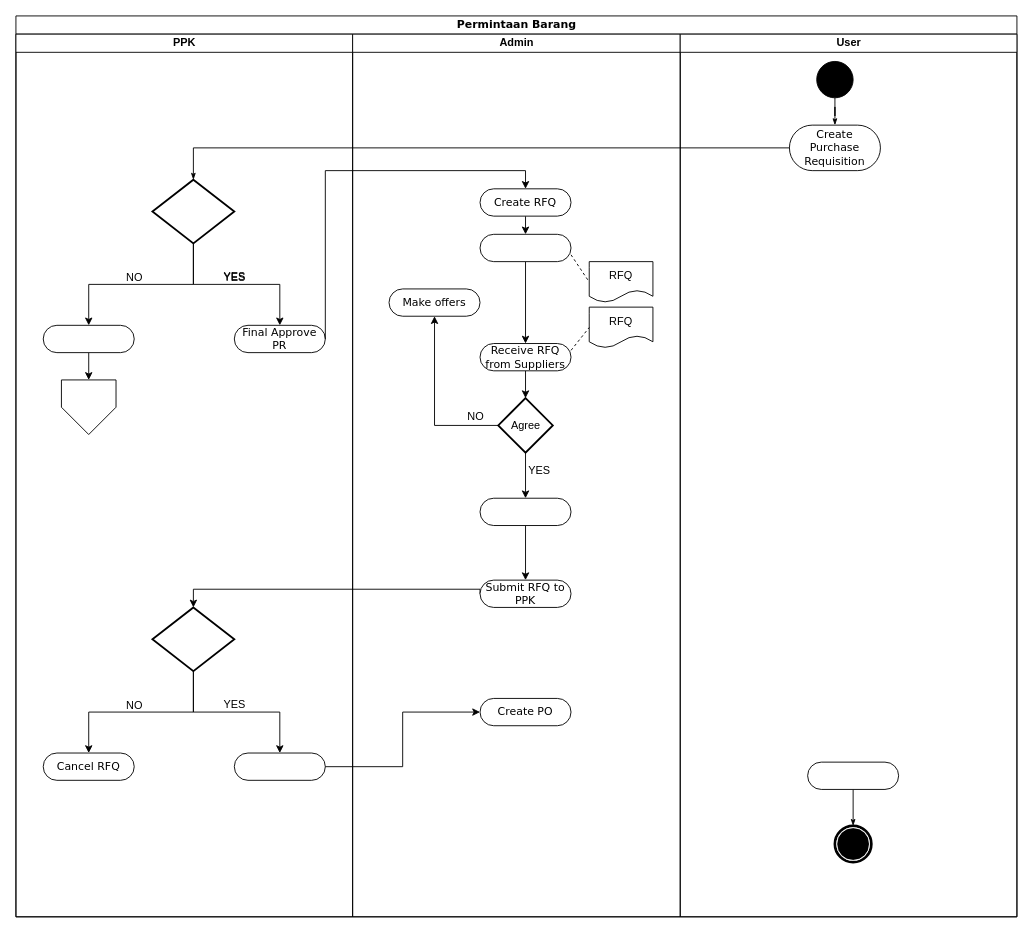
This 1033x933 diagram has some shape labels left out. The shapes that lost their labels are listed below. From the top down, each one's centre as x and y in pixels, then its label:
At pixel 193 211: "Approve PR".
At pixel 525 247: "Submit RFQ to Suppliers".
At pixel 88 338: "Cancel PR".
At pixel 88 407: "End".
At pixel 525 511: "Do Tender Analysis".
At pixel 193 639: "Approve RFQ".
At pixel 279 766: "Final Approve RFQ".
At pixel 853 775: "Action".
